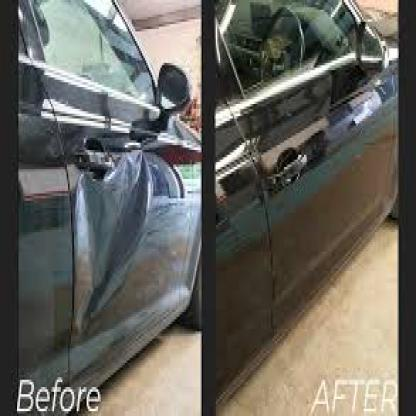dent: (62, 157, 150, 324)
